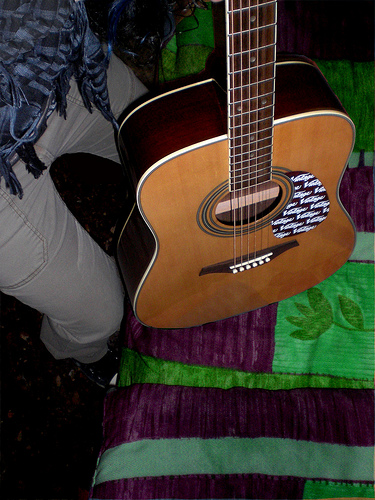guitar: (113, 1, 360, 334)
